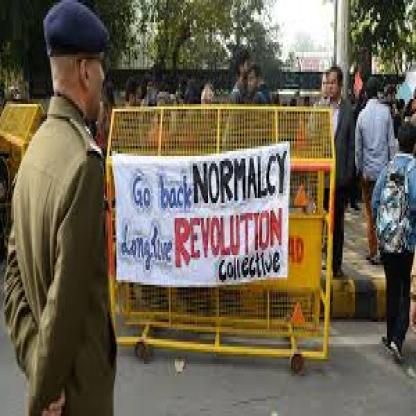BANNER: (114, 144, 290, 290)
